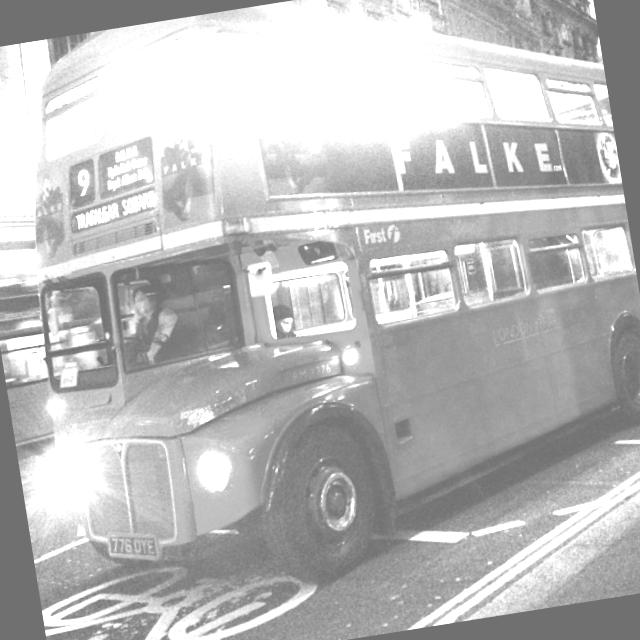Vehicle: (0, 0, 640, 613), (0, 198, 73, 453)
